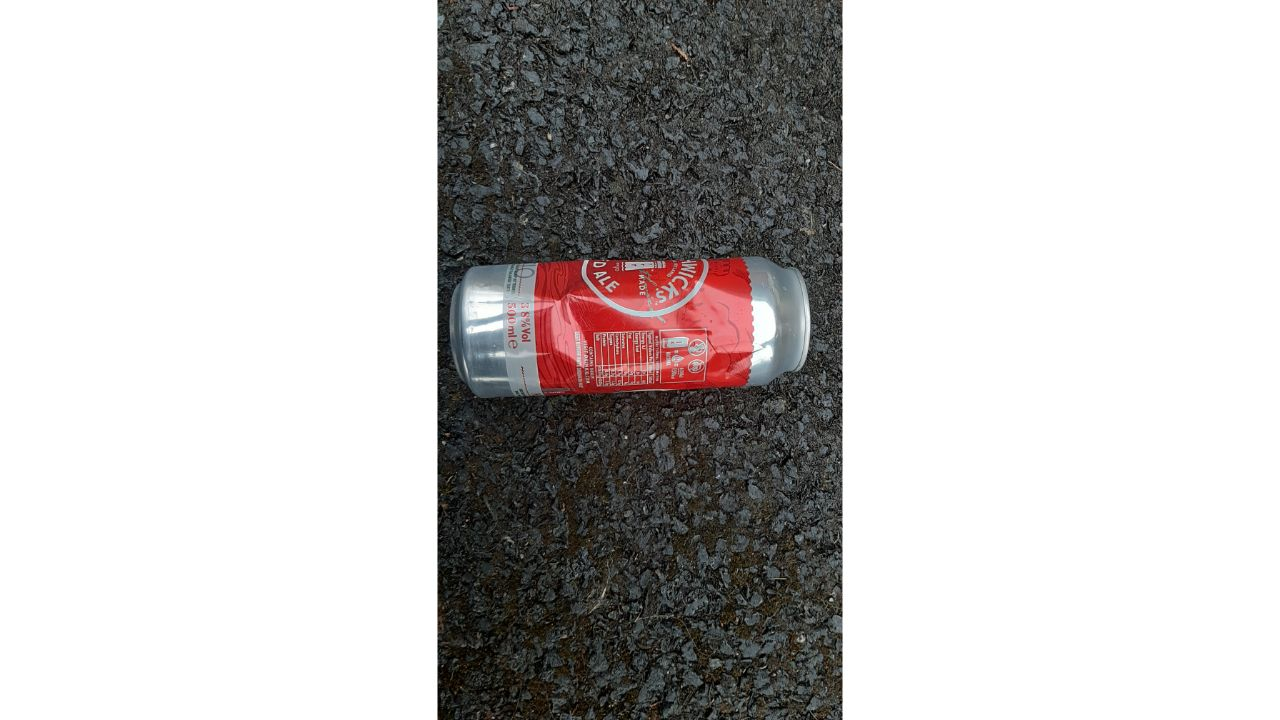Can: (443, 235, 830, 415)
